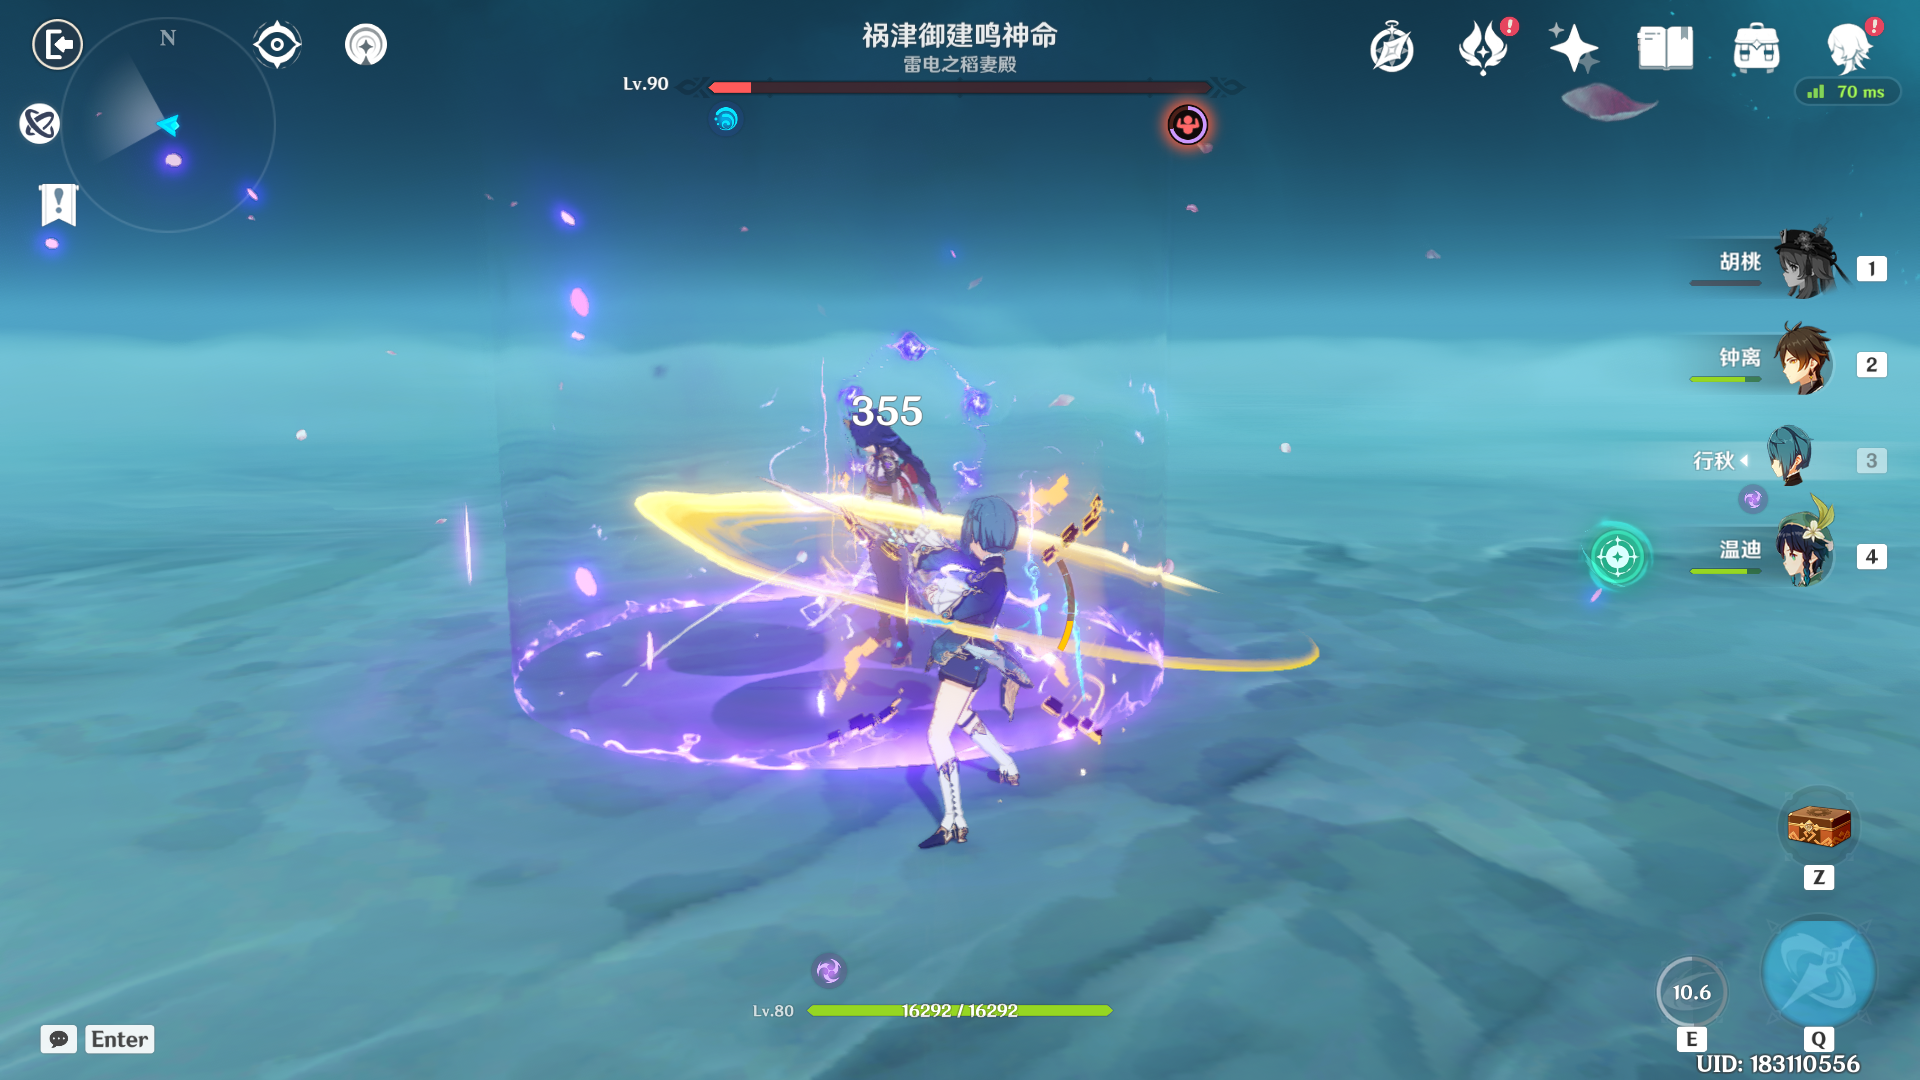character: (844, 485, 1062, 860), (804, 392, 947, 657)
